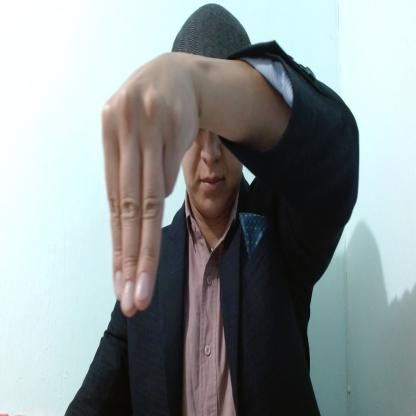M: (102, 50, 198, 316)
